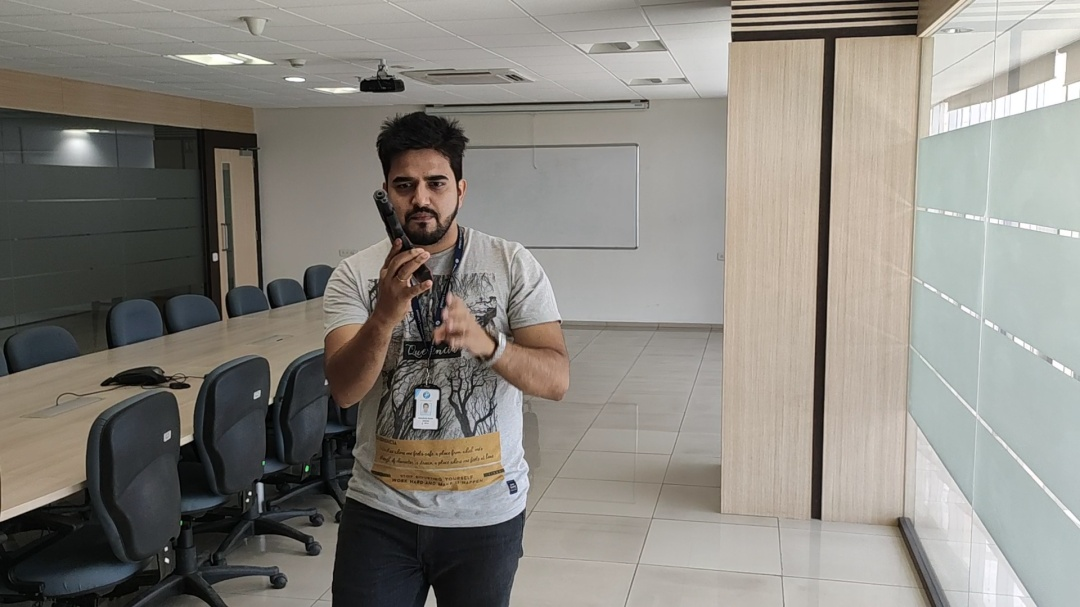gun: (371, 183, 438, 293)
